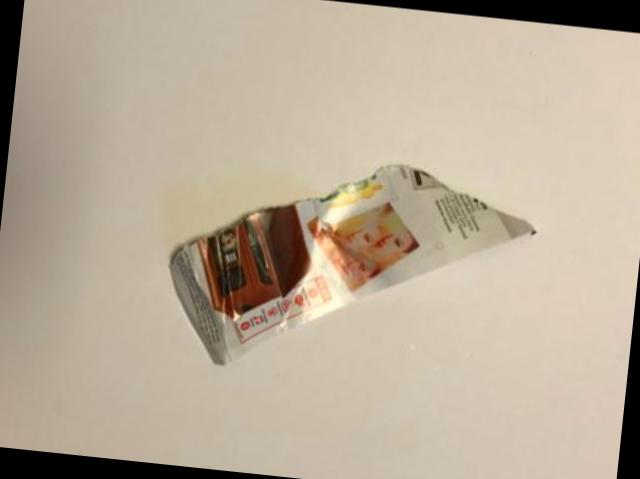cardboard paper: (171, 167, 535, 365)
